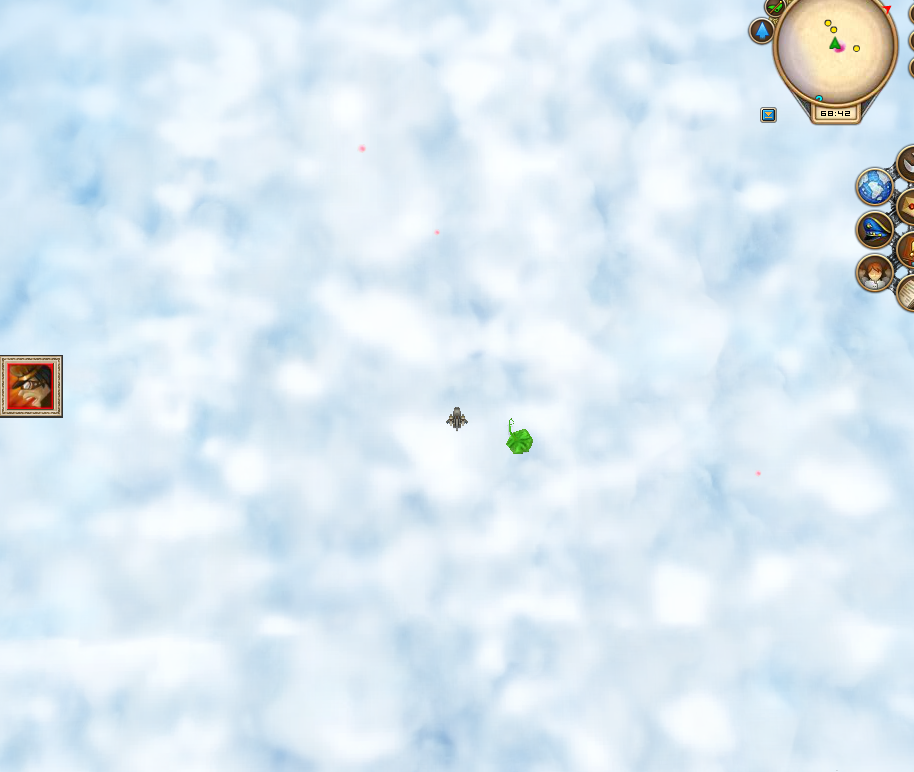dandelion-empty: (501, 413, 536, 458)
fluff: (355, 143, 369, 158), (750, 467, 766, 479), (429, 226, 444, 238)
